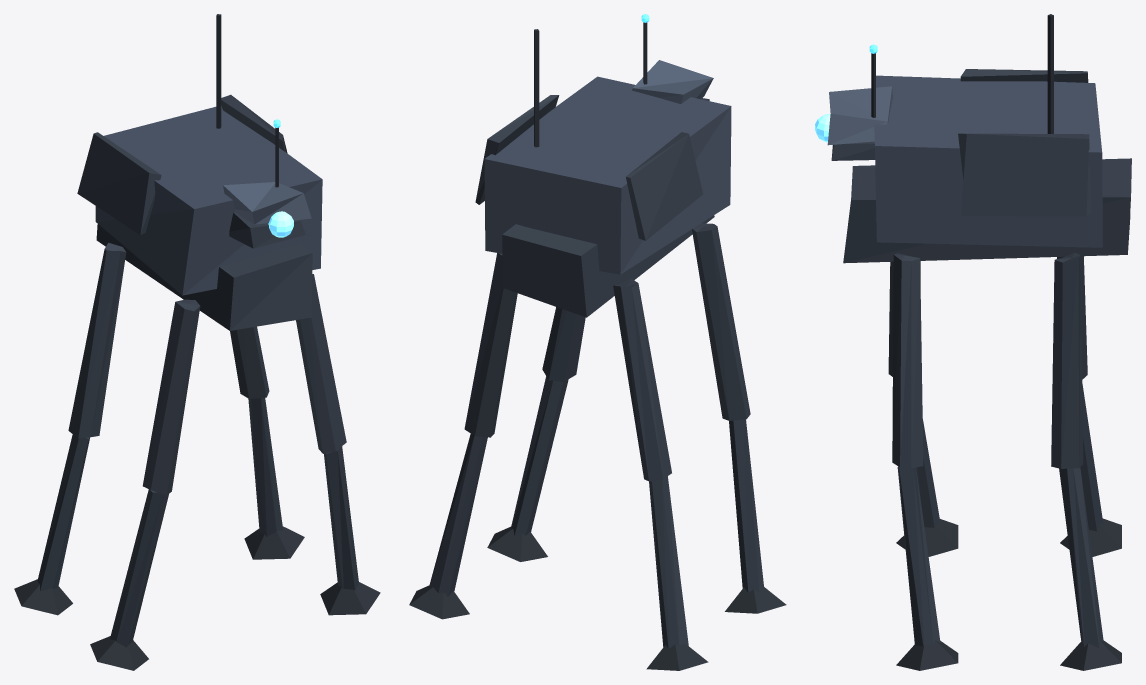
File: fusion-stilt-walker-v1.glb
3 views of the same model, side by side, from view 1: azimuth 30°, elevation 25°; view 2: azimuth 150°, elevation 25°; view 3: azimuth 270°, elevation 25° (orthographic). The views are drawn at different scales.
Parts seen in each view (by area): view 1: Stilt Walker, object 7, object 13, object 10, object 8, object 14, object 11, object 17, object 2, object 16, object 12, object 18 (+3 smaller); view 2: Stilt Walker, object 13, object 7, object 16, object 14, object 17, object 11, object 8, object 10, object 2, object 12, object 18 (+2 smaller); view 3: Stilt Walker, object 16, object 10, object 11, object 17, object 2, object 14, object 12, object 18, object 8, object 9, object 15 (+3 smaller).
Part boxes in pixels (x1,y1,x2,y2): Stilt Walker: (77,14,322,330); object 7: (142,299,200,495); object 13: (68,242,126,438); object 10: (296,274,346,453); object 8: (110,489,168,647); object 14: (37,434,89,591); object 11: (324,446,358,590); object 17: (248,397,283,536); object 2: (223,182,311,224); object 16: (230,326,269,398); object 12: (320,582,380,615); object 18: (244,526,304,559); Stilt Walker: (475,29,731,317); object 13: (613,278,671,481); object 7: (692,223,750,420); object 16: (464,253,517,437); object 14: (649,476,688,648); object 17: (428,434,487,596); object 11: (510,376,568,535); object 8: (729,419,763,592); object 10: (542,307,585,381); object 2: (632,60,713,103); object 12: (487,526,547,561); object 18: (409,585,469,619); Stilt Walker: (843,14,1131,263); object 16: (1051,253,1083,468); object 10: (892,253,923,468); object 11: (897,466,940,645); object 17: (1059,467,1103,648); object 2: (827,86,893,145); object 14: (1080,384,1103,531); object 12: (896,640,958,670); object 18: (1060,640,1121,670); object 8: (916,419,940,527); object 9: (896,519,958,556); object 15: (1060,518,1121,556).
Bounding box in the file's own units: 5.61 × 10.73 × 5.03.
